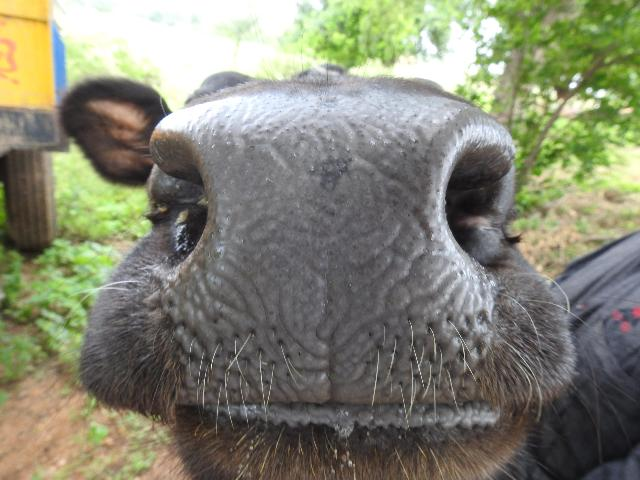Muzzle: (176, 112, 484, 404)
